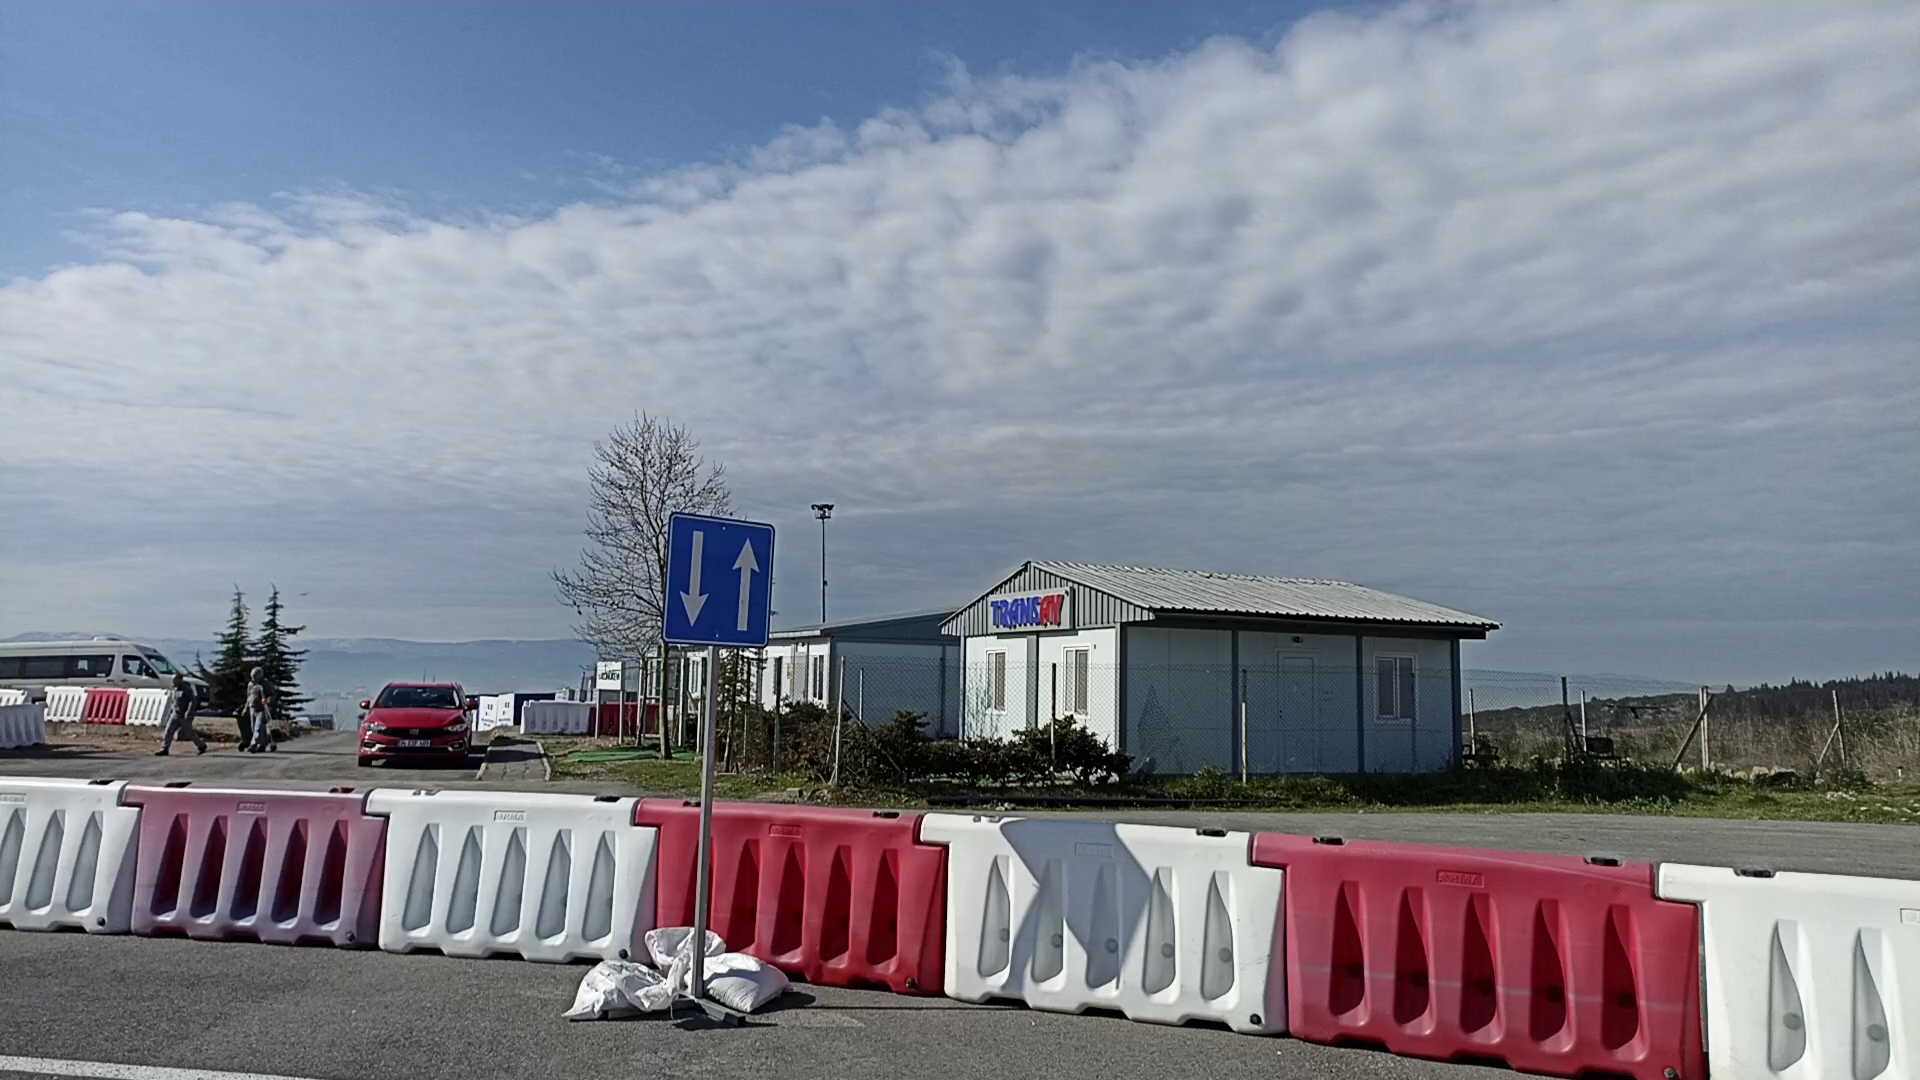oneway: (659, 509, 775, 650)
